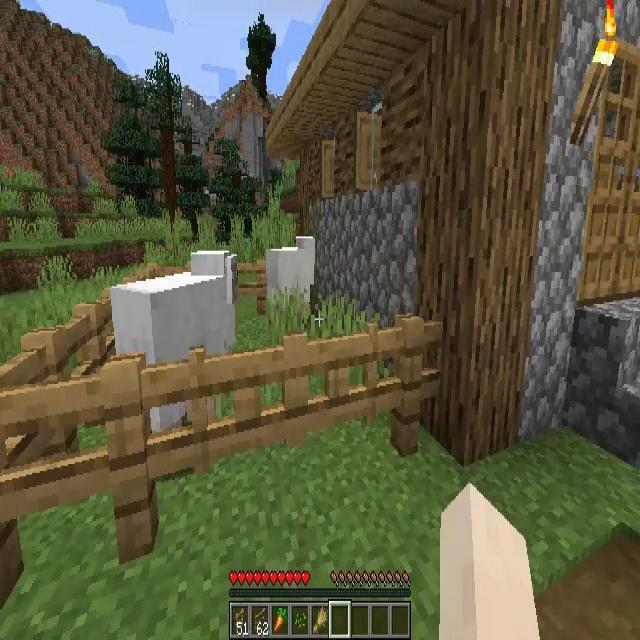sheep: (110, 249, 234, 422), (266, 239, 315, 319)
